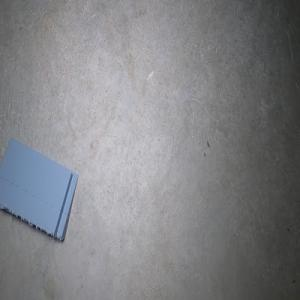PlasticPart: (0, 137, 78, 241)
